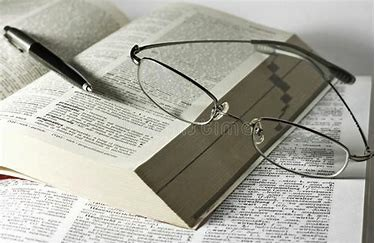pen: (2, 21, 91, 91)
